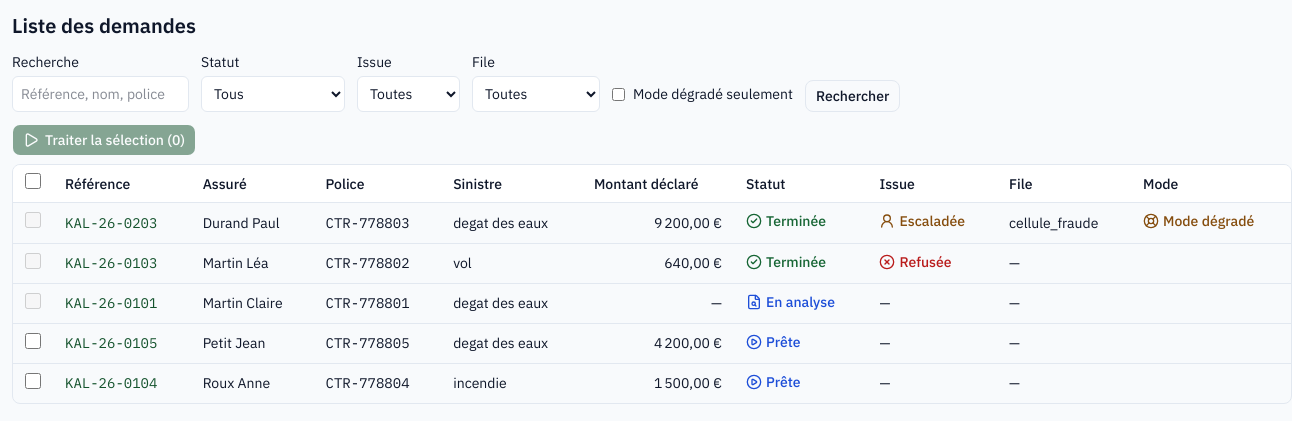
Test: E1 · Liste des demandes › 409 : alerte avec les dossiers refusés
The image size is (1292, 421).
Click the checkbox named "Sélectionner KAL-26-0104" at point(33, 381), box [25,373,41,389]
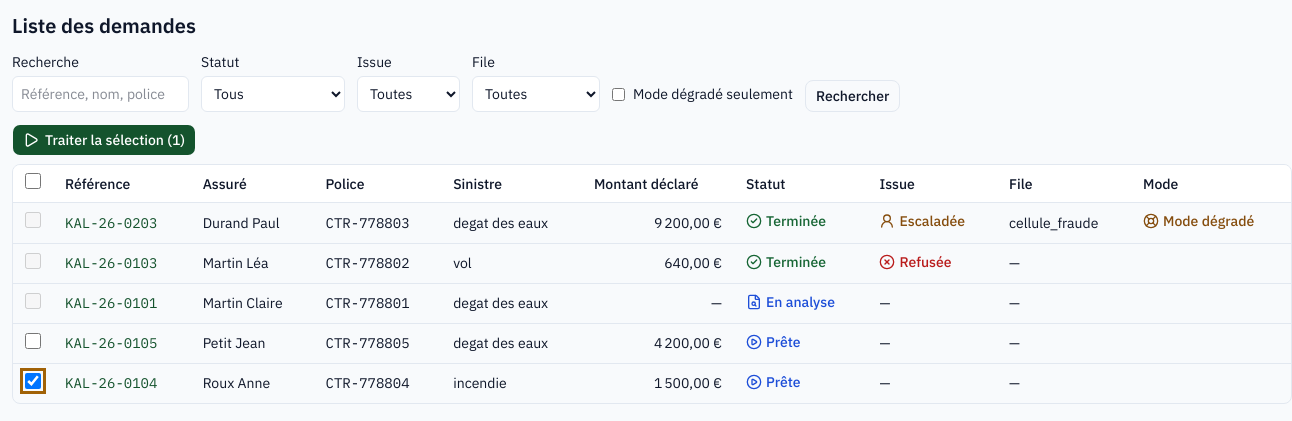
Click the button "Traiter la sélection (1)" at point(104, 140), box [12,124,196,156]
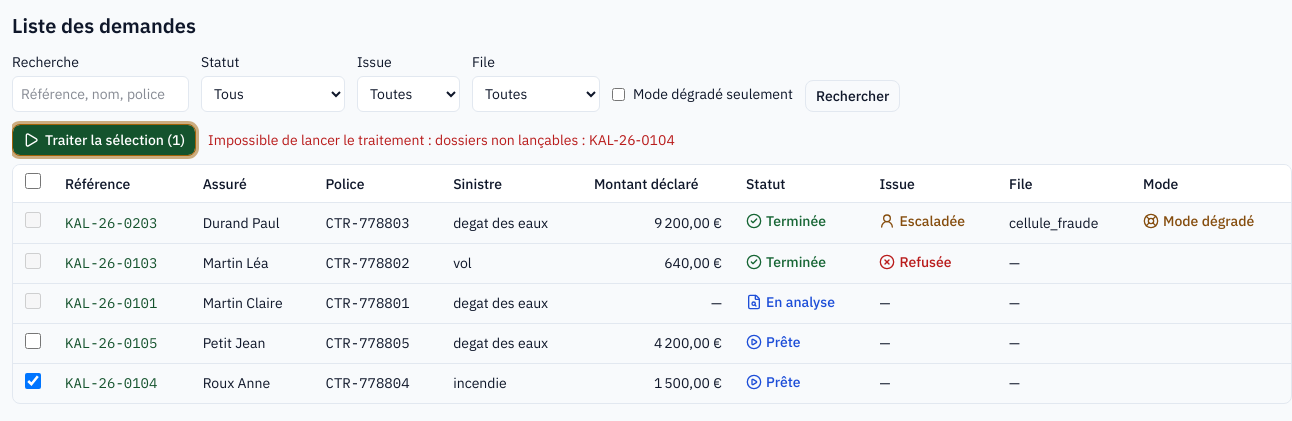
Now the message reads "Impossible de lancer le traitement : dossiers non lançables : KAL-26-0104", box [208,130,675,150]
